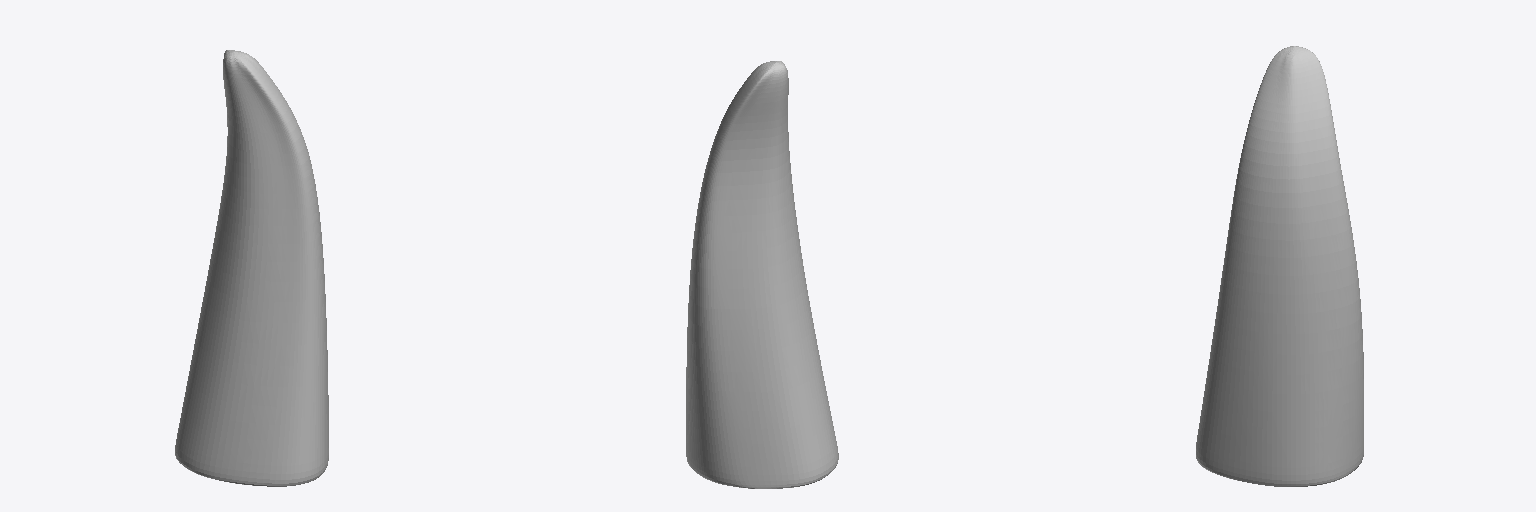
File: Corte Trans 2.obj
3 views of the same model, side by side, from view 1: azimuth 30°, elevation 25°; view 2: azimuth 150°, elevation 25°; view 3: azimuth 270°, elevation 25° (orthographic).
Visible parts, largest first — view 1: Cylinder; view 2: Cylinder; view 3: Cylinder.
Part boxes in pixels (bbox=[...]): Cylinder: bbox=[175, 50, 328, 486]; Cylinder: bbox=[686, 61, 838, 488]; Cylinder: bbox=[1196, 46, 1363, 486].
Bounding box in the file's own units: 0.9379 × 2.71 × 1.03.